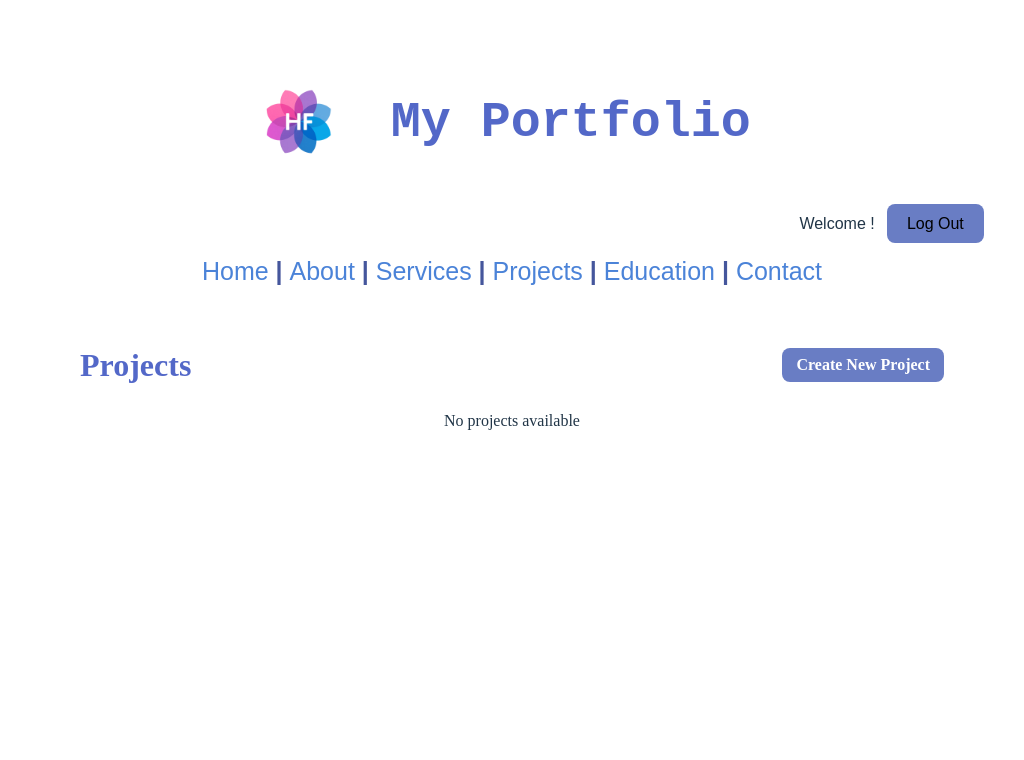
Test: Portfolio Application E2E Tests › Projects Management › navigates to create project form
This screenshot has width=1024, height=760.
Click the button "Create New Project" at [863, 365], box left=782, top=348, right=944, bottom=382
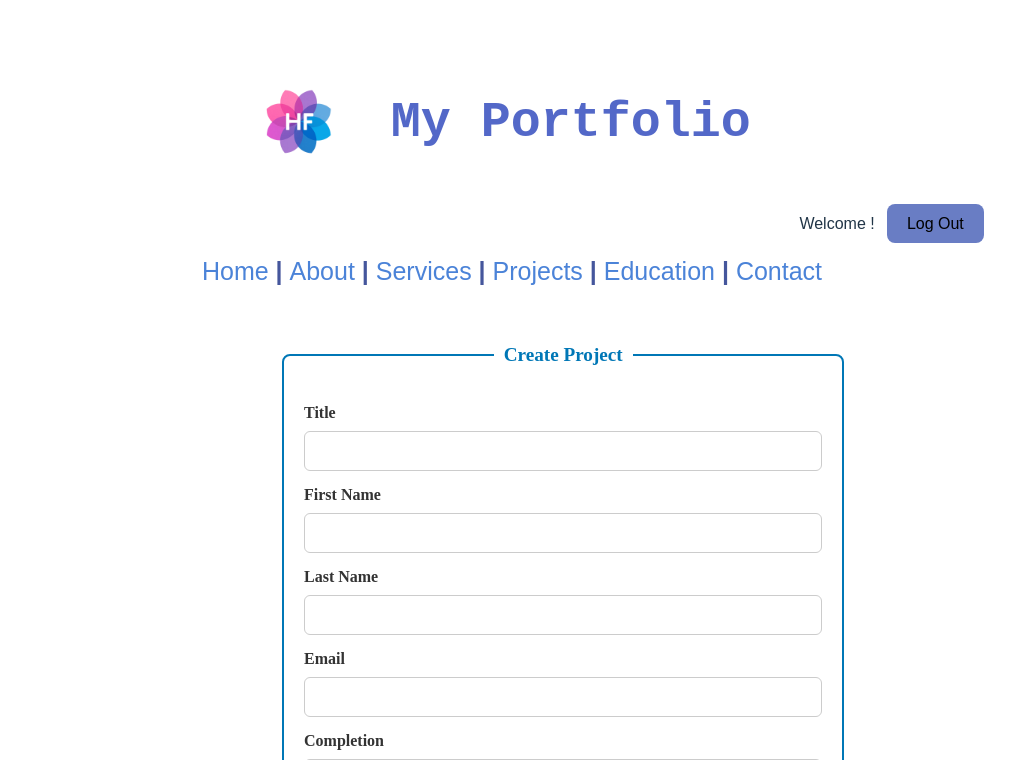
Now the text "Create Project" is shown, box left=494, top=341, right=633, bottom=370
